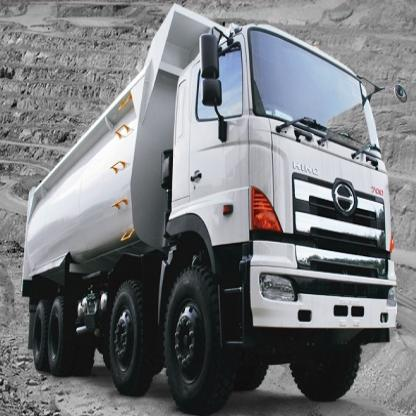dump_truck: (15, 8, 402, 395)
